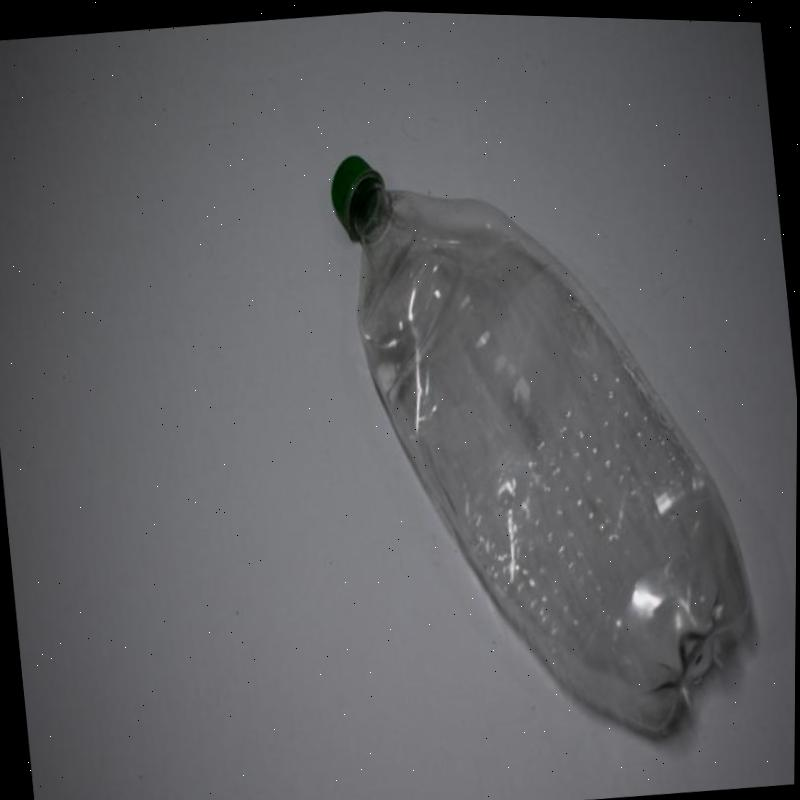botella: (323, 116, 769, 768)
